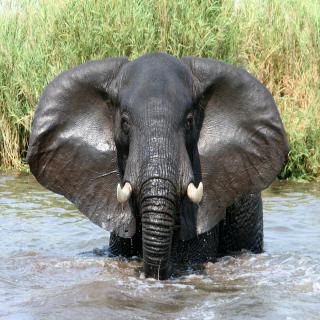Elephant: (24, 48, 288, 286)
